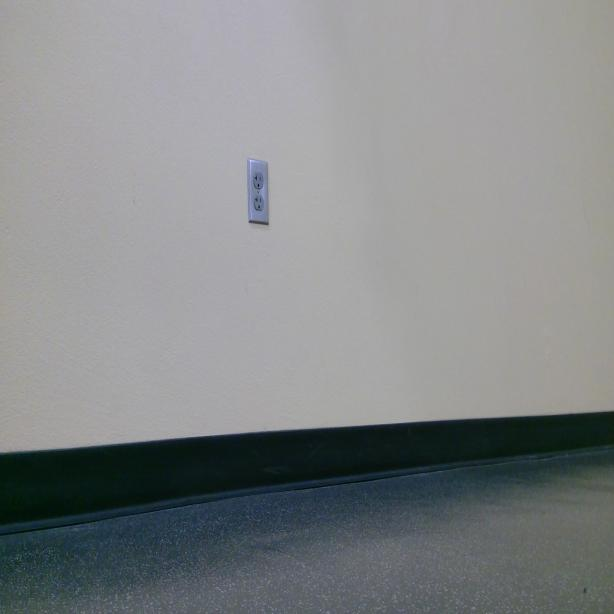typeb: (254, 193, 266, 212), (253, 169, 263, 190)
